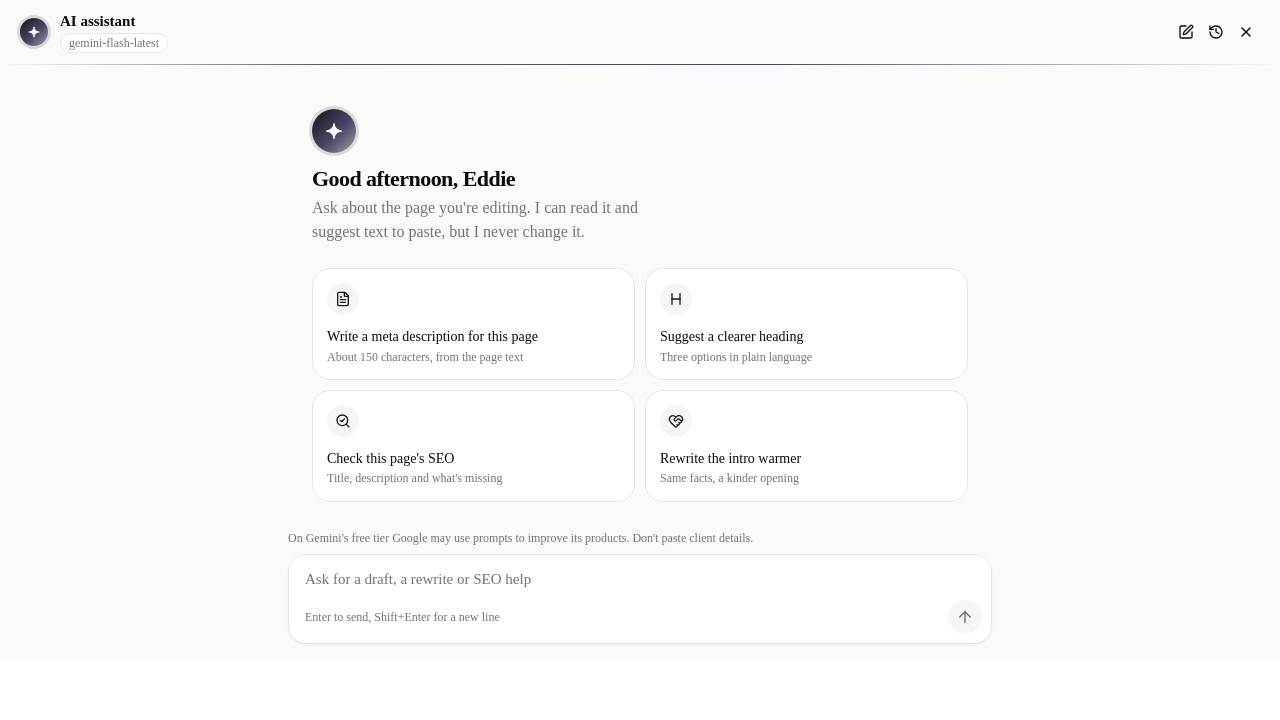
Scenario: AssistantPanel › offers page starters in the page editor and article ones in the article editor
expect the text "the page you're editing" is shown: met, box [312,199,638,240]
expect the button "Write a meta description for this page" is shown: met, box [327,327,538,347]
Click the button "Check this page's SEO" at [415, 459], box [327,449,502,468]
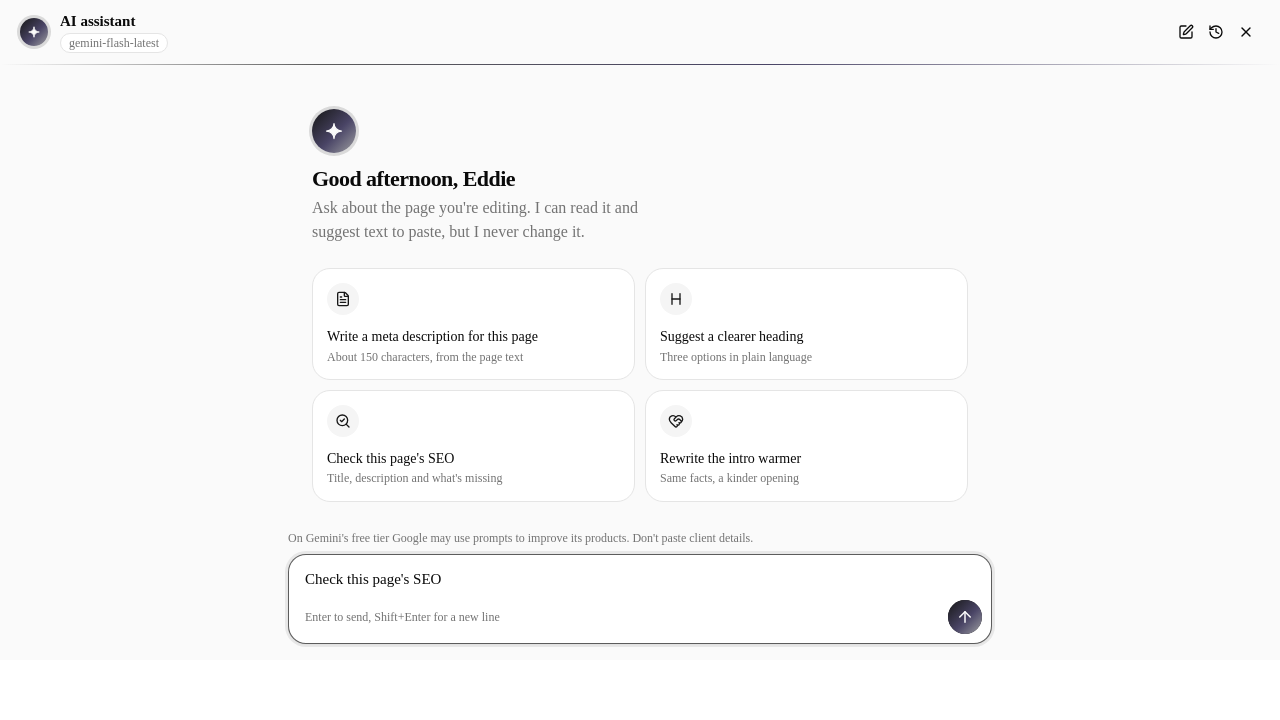
expect the text box named "Message the AI assistant" holds "Check this page's SEO": met, box [289,555,991,599]
